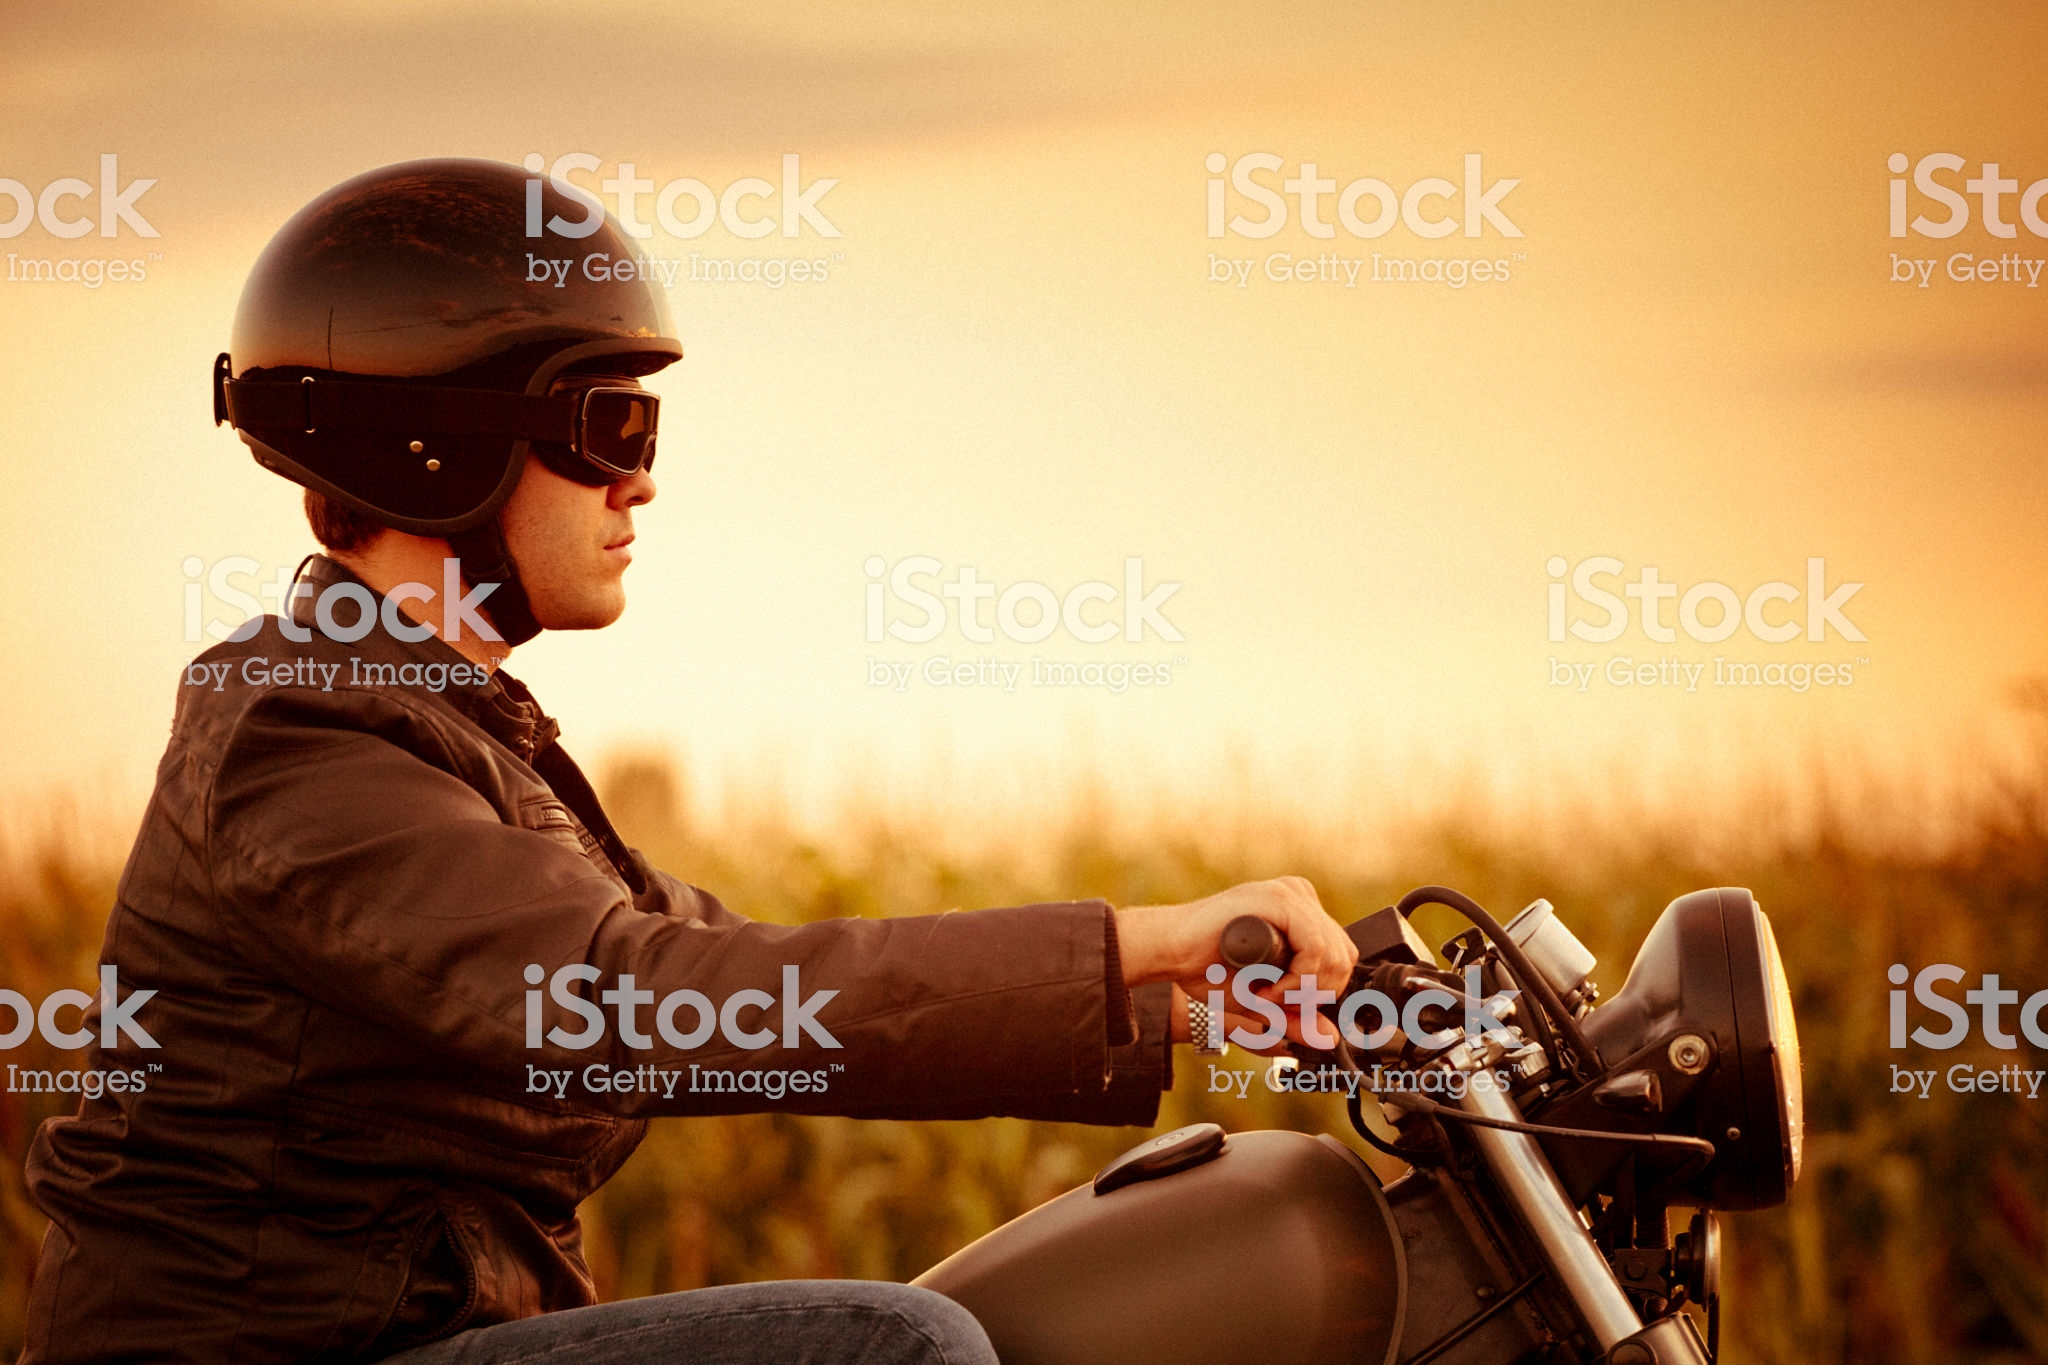helmet: (228, 165, 627, 492)
